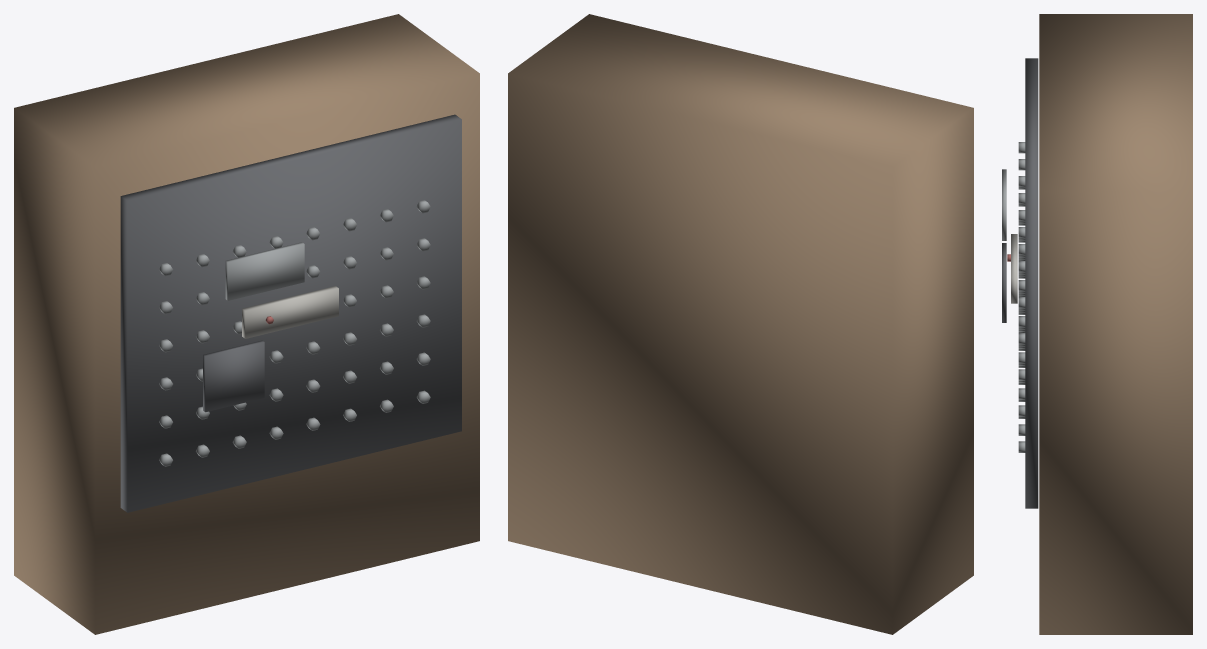
File: telephone_switchboard__weathered.glb
The picture shows the model from 3 angles, left to right: view 1: azimuth 30°, elevation 25°; view 2: azimuth 150°, elevation 25°; view 3: azimuth 270°, elevation 25°; orthographic projection. The views are drawn at different scales.
Visible parts, largest first — view 1: world; view 2: world; view 3: world.
Part boxes in pixels (<box>): world: <box>14,14,479,634</box>; world: <box>508,14,973,634</box>; world: <box>1002,14,1192,634</box>.
Size of the model in its own units: 1.15 by 1.34 by 0.5213.
